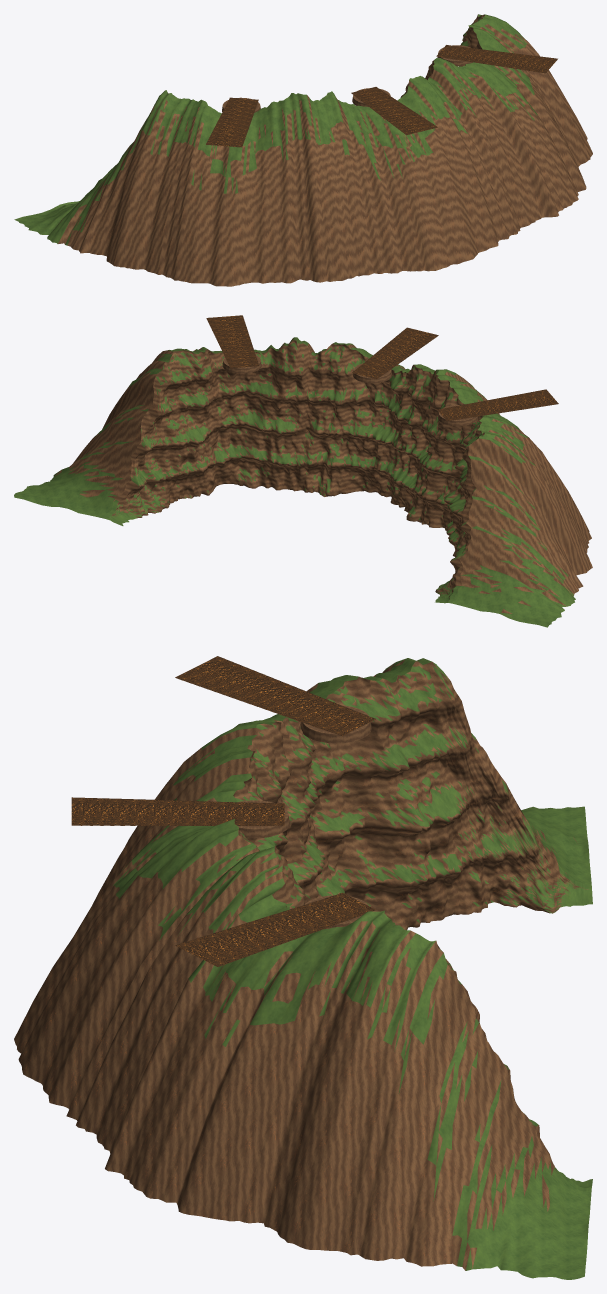
File: mwm_cliff.glb
3 renders of one model, top to bottom at view 1: azimuth 30°, elevation 25°; view 2: azimuth 150°, elevation 25°; view 3: azimuth 270°, elevation 25°, orthographic. The views are drawn at different scales.
Size of the model in its own units: 631 by 161 by 326.
4 materials, 4 textured.
